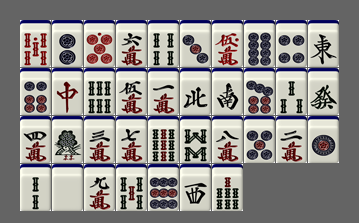0m: (212, 20, 243, 67)
0p: (84, 20, 115, 67)
0s: (20, 20, 51, 67)
1m: (148, 68, 179, 115)
1p: (308, 116, 339, 163)
1s: (52, 116, 83, 163)
1z: (308, 20, 339, 67)
2m: (276, 116, 307, 163)
2p: (52, 20, 83, 67)
2s: (20, 164, 51, 211)
2z: (212, 68, 243, 115)
3m: (84, 116, 115, 163)
3p: (180, 20, 211, 67)
3s: (276, 68, 307, 115)
3z: (180, 164, 211, 211)
4m: (20, 116, 51, 163)
4p: (276, 20, 307, 67)
4s: (148, 20, 179, 67)
4z: (180, 68, 211, 115)
5m: (116, 68, 147, 115)
5p: (244, 116, 275, 163)
5s: (116, 164, 147, 211)
5z: (52, 164, 83, 211)
6m: (116, 20, 147, 67)
6p: (20, 68, 51, 115)
6s: (84, 68, 115, 115)
6z: (308, 68, 339, 115)
7m: (116, 116, 147, 163)
7p: (244, 68, 275, 115)
7s: (212, 164, 243, 211)
7z: (52, 68, 83, 115)
8m: (212, 116, 243, 163)
8p: (244, 20, 275, 67)
8s: (180, 116, 211, 163)
9m: (84, 164, 115, 211)
9p: (148, 164, 179, 211)
9s: (148, 116, 179, 163)
